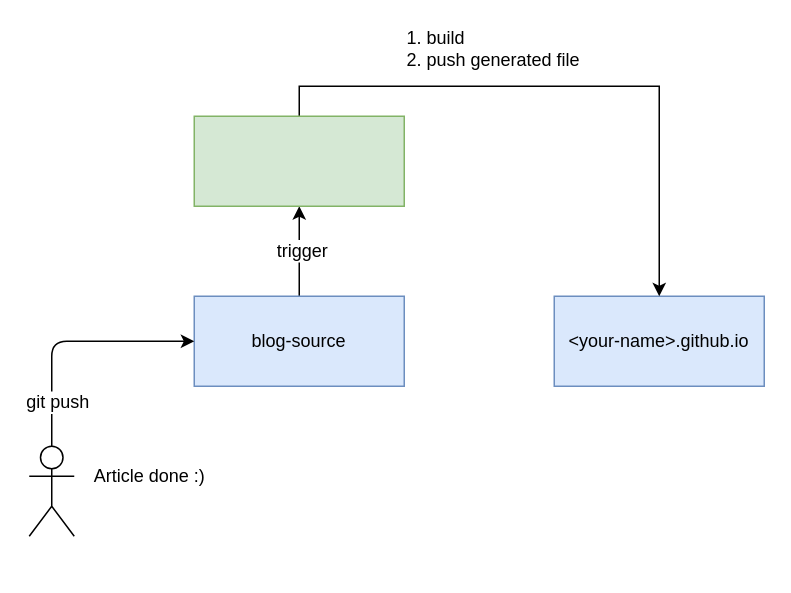
The diagram is 791 pixels wide and 593 high, and some of its shapes have lost their labels. Each missing label, with the box of its shape:
Action: (193, 115, 404, 206)
Actor: (28, 445, 74, 536)
